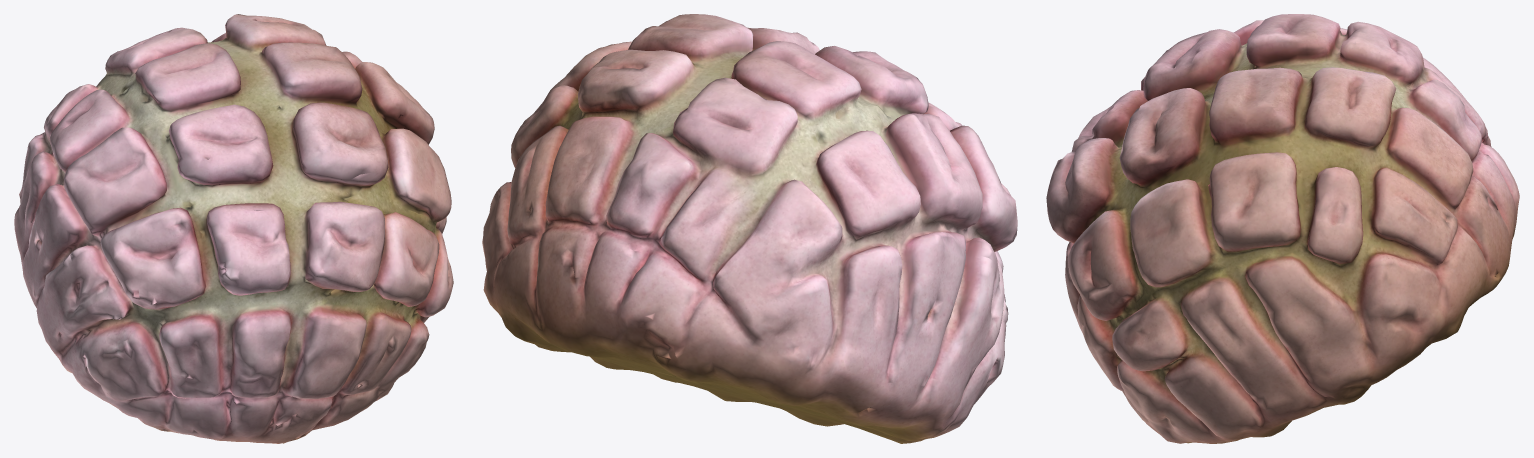
File: Stack 1B - Concha.glb
3 views of the same model, side by side, from view 1: azimuth 30°, elevation 25°; view 2: azimuth 150°, elevation 25°; view 3: azimuth 270°, elevation 25° (orthographic). The views are drawn at different scales.
Visible parts, largest first — view 1: Stack 1B - Concha · mesh; view 2: Stack 1B - Concha · mesh; view 3: Stack 1B - Concha · mesh.
Boxes of the visible parts, x1=… form: Stack 1B - Concha · mesh: x1=14, y1=14, x2=453, y2=443; Stack 1B - Concha · mesh: x1=482, y1=14, x2=1017, y2=443; Stack 1B - Concha · mesh: x1=1046, y1=14, x2=1519, y2=443.
Size of the model in its own units: 1 by 0.8901 by 1.01.
1 material, 1 textured.
